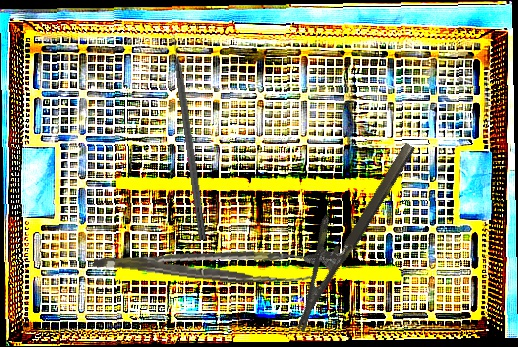Hook Surgical: (169, 29, 210, 241)
Needle Holder: (266, 126, 418, 333)
Tissue Forceps: (93, 230, 316, 294)
